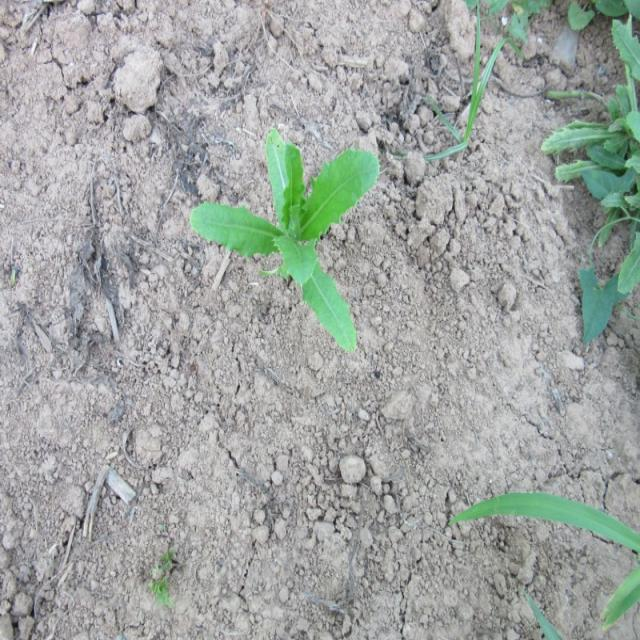cs: (188, 121, 382, 356)
